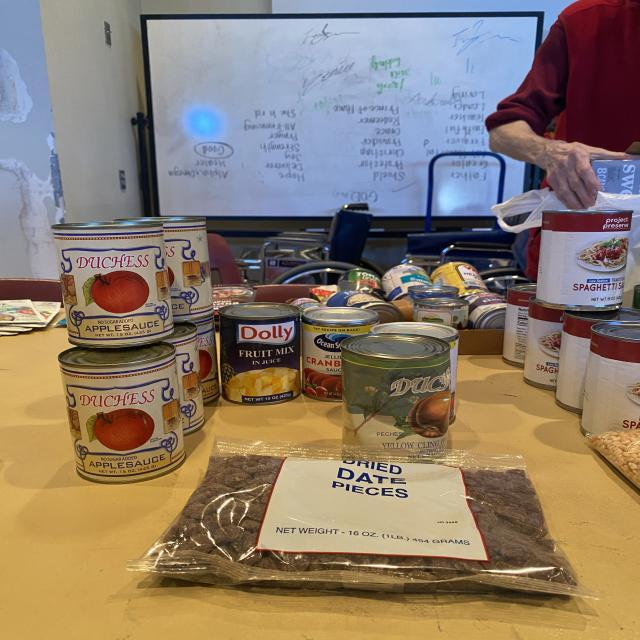Canned Food: (58, 342, 185, 484), (52, 221, 173, 348), (342, 332, 452, 449), (125, 216, 213, 321), (537, 210, 632, 306), (555, 309, 640, 414), (370, 321, 458, 421), (218, 302, 302, 405), (302, 306, 380, 401), (582, 321, 640, 435), (70, 418, 168, 482), (165, 322, 205, 435), (523, 298, 563, 390), (503, 284, 537, 368), (190, 315, 220, 404), (430, 261, 488, 296), (382, 264, 432, 301), (413, 298, 468, 330), (463, 292, 507, 330), (353, 301, 405, 324), (337, 268, 382, 291), (327, 290, 360, 308), (310, 285, 340, 302), (287, 298, 323, 311), (533, 316, 538, 319), (312, 300, 313, 302)
Grains: (588, 430, 640, 488)
Snack: (128, 438, 597, 598)
